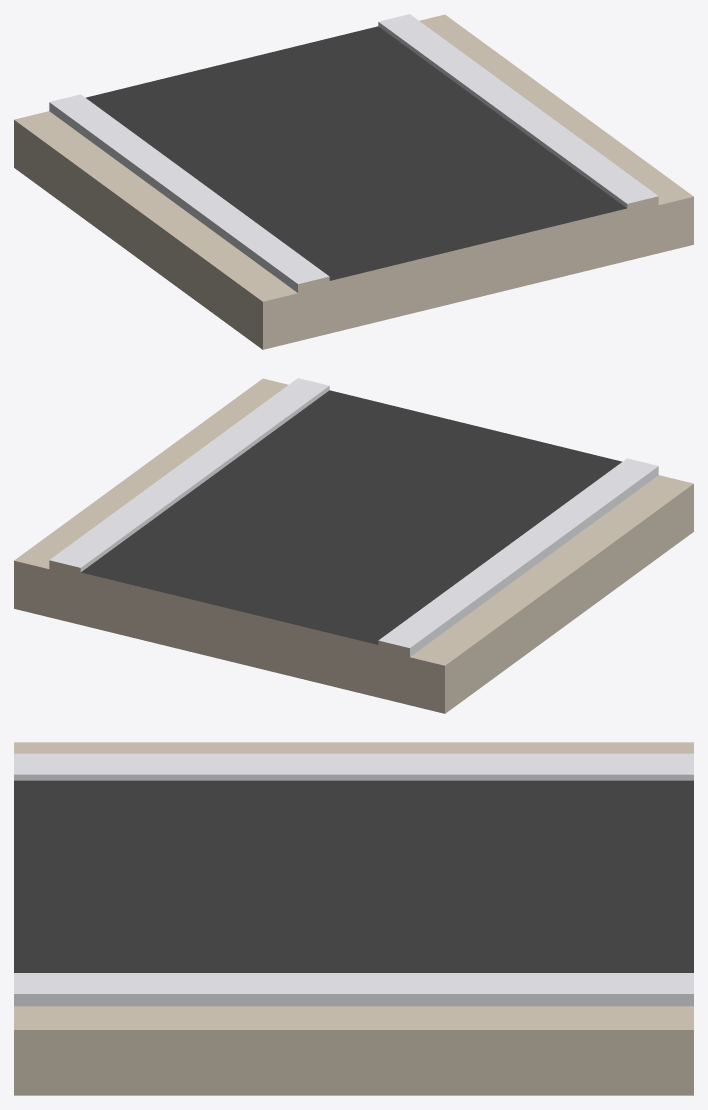
File: roadStraightBridgeMid.glb
The picture shows the model from 3 angles, top to bottom: view 1: azimuth 30°, elevation 25°; view 2: azimuth 150°, elevation 25°; view 3: azimuth 270°, elevation 25°; orthographic projection. The views are drawn at different scales.
Parts seen in each view (by area): view 1: roadStraightBridgeMid(Clone); view 2: roadStraightBridgeMid(Clone); view 3: roadStraightBridgeMid(Clone).
Part boxes in pixels (<box>): roadStraightBridgeMid(Clone): <box>14,14,693,349</box>; roadStraightBridgeMid(Clone): <box>14,378,693,713</box>; roadStraightBridgeMid(Clone): <box>14,742,693,1095</box>.
Size of the model in its own units: 1 by 0.1266 by 1.
